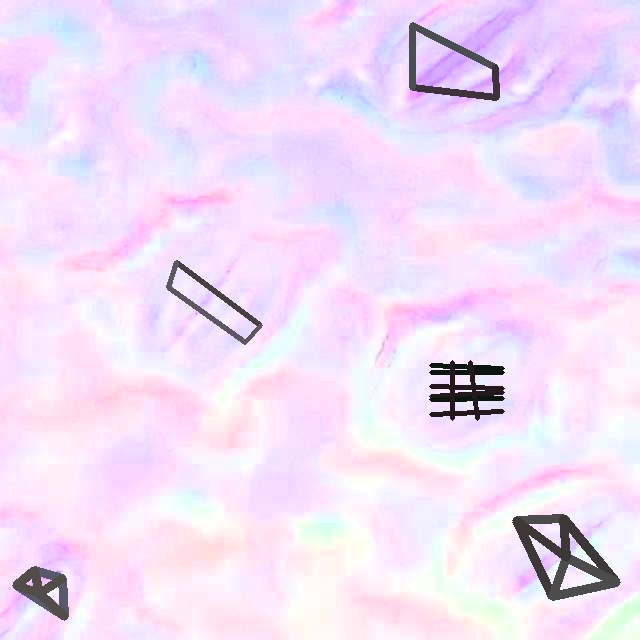close: (429, 360, 504, 420)
open: (513, 514, 619, 600), (167, 261, 261, 343), (409, 22, 498, 100), (12, 567, 66, 619)
